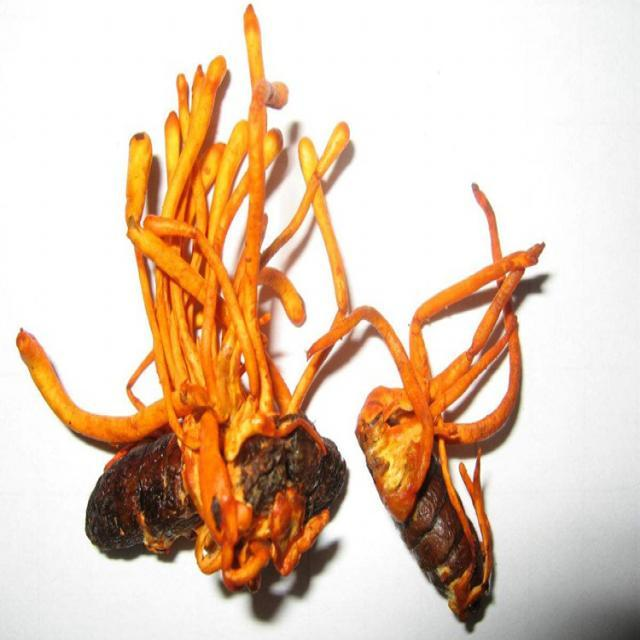Cordyceps militaris: (18, 3, 348, 587), (308, 185, 545, 626)
